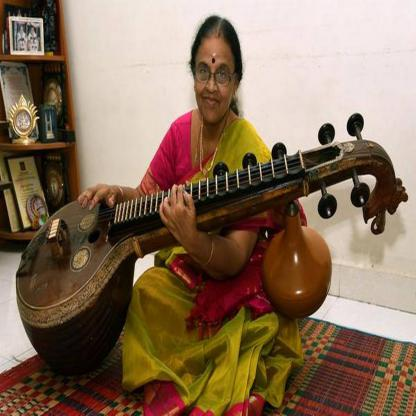Veena: (7, 141, 332, 306)
